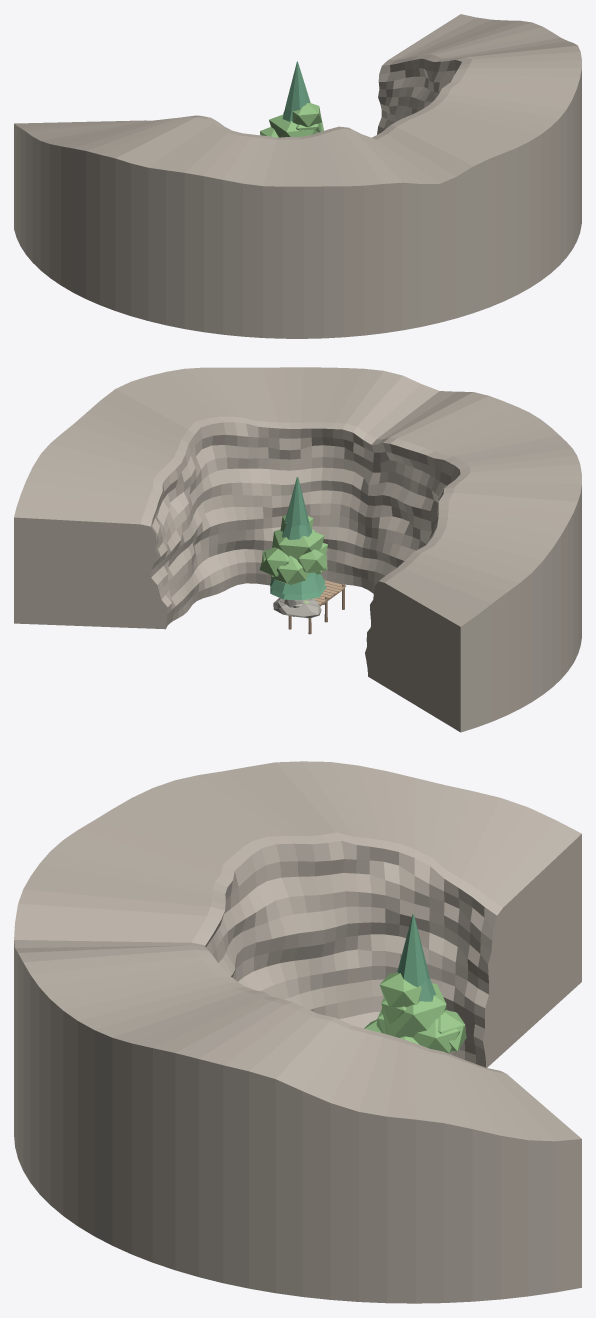
The model's file is assets.glb.
3 renders of one model, top to bottom at view 1: azimuth 30°, elevation 25°; view 2: azimuth 150°, elevation 25°; view 3: azimuth 270°, elevation 25°, orthographic. The views are drawn at different scales.
Visible parts, largest first — view 1: Cliff, Tree1, Pine2; view 2: Cliff, Tree1, Pine2, Tree2, Dock, Rock4; view 3: Cliff, Tree1, Pine2.
Boxes of the visible parts, x1,y1,x2,y2 form: Cliff: [14, 14, 581, 338]; Tree1: [260, 103, 323, 137]; Pine2: [282, 61, 310, 124]; Cliff: [14, 367, 581, 732]; Tree1: [259, 515, 324, 576]; Pine2: [270, 477, 325, 594]; Tree2: [271, 529, 327, 584]; Dock: [288, 579, 346, 634]; Rock4: [273, 598, 321, 618]; Cliff: [14, 761, 581, 1303]; Tree1: [379, 972, 466, 1053]; Pine2: [397, 914, 436, 1001].
Bounding box in the file's own units: 33.2 × 10.11 × 23.62.
